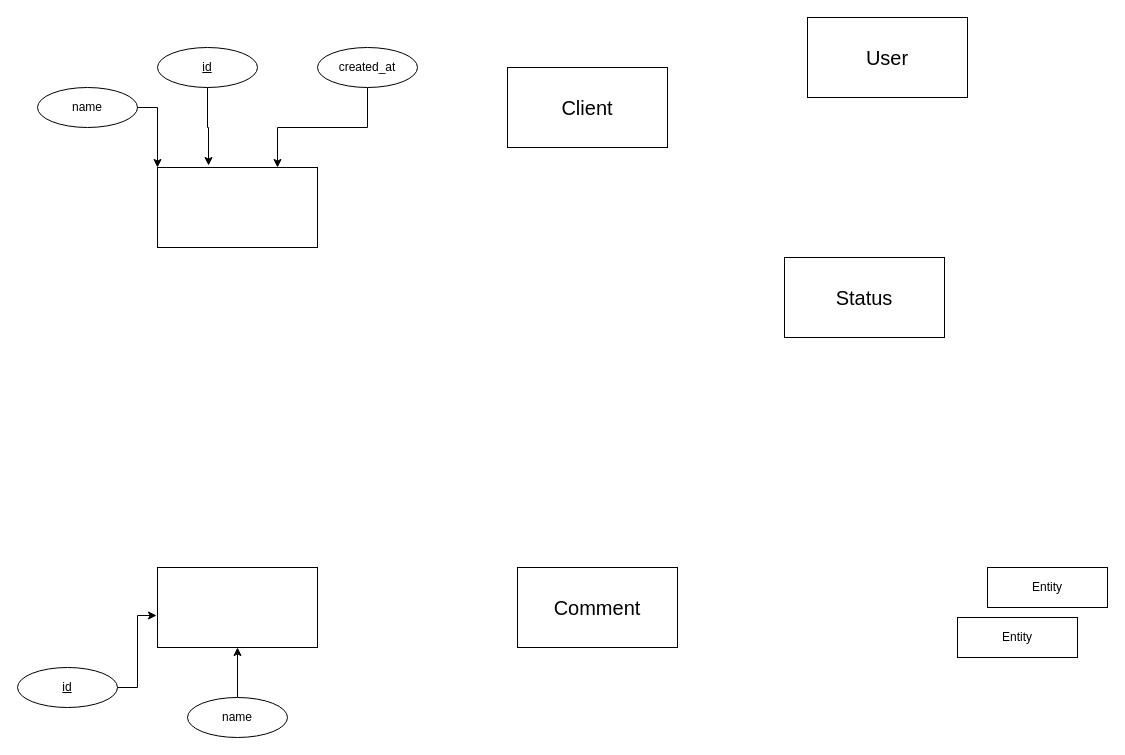
Some shapes in this 1125 by 755 pixel diagram are drawn without their labels. Each missing label, with the centre of its shape:
Project: pixel 237 207
Stage: pixel 237 607
